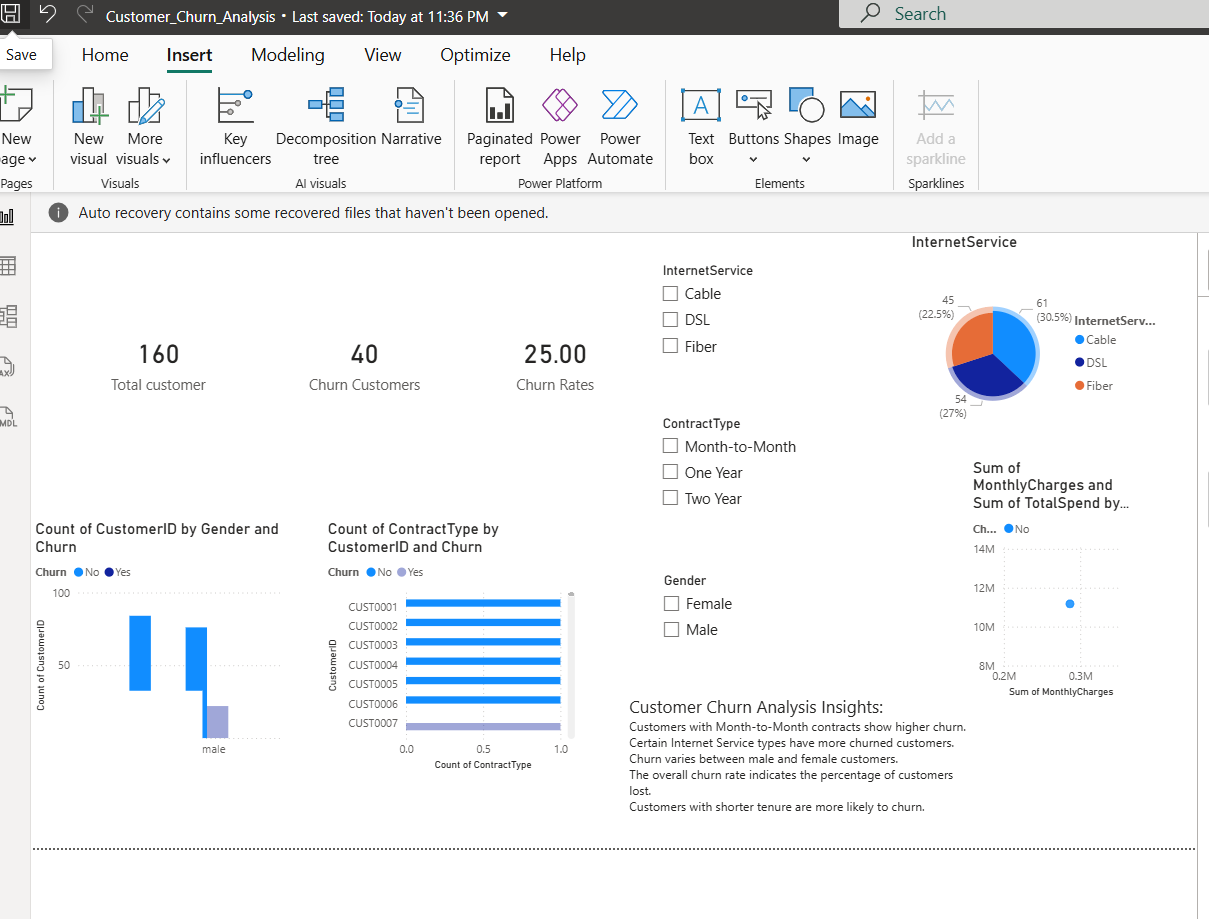

This screenshot's page, from the dashboard's own definition file:
{"tool":"powerbi","page":{"name":"Page 1","canvas":[1280,720],"ordinal":0},"visuals":[{"type":"card","fields":{"Values":["Customer_Churn_Data.Total customer"]},"box":[0,46.7,279.9,279.9],"z":0},{"type":"card","fields":{"Values":["Customer_Churn_Data.Churn Customers"]},"box":[226.4,46.7,279.9,279.9],"z":1},{"type":"card","fields":{"Values":["Customer_Churn_Data.Churn Rates"]},"box":[435,46.7,281.3,279.9],"z":2},{"type":"clusteredColumnChart","fields":{"Category":["Customer_Churn_Data.Gender"],"Y":["CountNonNull(Customer_Churn_Data.CustomerID)"],"Series":["Customer_Churn_Data.Churn"]},"box":[0,359.5,279.9,279.9],"z":3},{"type":"clusteredBarChart","fields":{"Y":["CountNonNull(Customer_Churn_Data.ContractType)"],"Category":["Customer_Churn_Data.CustomerID"],"Series":["Customer_Churn_Data.Churn"]},"box":[321.1,359.5,281.3,279.9],"z":4},{"type":"pieChart","fields":{"Category":["Customer_Churn_Data.InternetService"],"Y":["CountNonNull(Customer_Churn_Data.CustomerID)"]},"box":[961.9,24.7,281.3,267.6],"z":5},{"type":"scatterChart","fields":{"X":["Sum(Customer_Churn_Data.MonthlyCharges)"],"Y":["Sum(Customer_Churn_Data.TotalSpend)"],"Series":["Customer_Churn_Data.Churn"]},"box":[1029.2,292.3,183.9,267.6],"z":6},{"type":"slicer","fields":{"Values":["Customer_Churn_Data.Gender"]},"box":[682,413,279.9,172.9],"z":7},{"type":"slicer","fields":{"Values":["Customer_Churn_Data.InternetService"]},"box":[680.6,72.7,208.6,172.9],"z":8},{"type":"slicer","fields":{"Values":["Customer_Churn_Data.ContractType"]},"box":[680.6,240.1,281.3,172.9],"z":9},{"type":"textbox","box":[18,548,170,172],"z":10},{"type":"textbox","box":[651.8,547.5,392.5,141.3],"z":11}]}

Visuals, with their boxes on the page's 1280x720 design canvas (x1, y1, x2, y2). These are canvas units, not pixel positions in the 1209x919 screenshot, which may show the page scaled, cropped or inside an application window:
card - Customer_Churn_Data.Total customer: <box>0,47,280,327</box>
card - Customer_Churn_Data.Churn Customers: <box>226,47,506,327</box>
card - Customer_Churn_Data.Churn Rates: <box>435,47,716,327</box>
clusteredColumnChart - Customer_Churn_Data.Gender x CountNonNull(Customer_Churn_Data.CustomerID): <box>0,360,280,639</box>
clusteredBarChart - CountNonNull(Customer_Churn_Data.ContractType) x Customer_Churn_Data.CustomerID: <box>321,360,602,639</box>
pieChart - Customer_Churn_Data.InternetService x CountNonNull(Customer_Churn_Data.CustomerID): <box>962,25,1243,292</box>
scatterChart - Sum(Customer_Churn_Data.MonthlyCharges) x Sum(Customer_Churn_Data.TotalSpend): <box>1029,292,1213,560</box>
slicer - Customer_Churn_Data.Gender: <box>682,413,962,586</box>
slicer - Customer_Churn_Data.InternetService: <box>681,73,889,246</box>
slicer - Customer_Churn_Data.ContractType: <box>681,240,962,413</box>
textbox: <box>18,548,188,720</box>
textbox: <box>652,548,1044,689</box>
